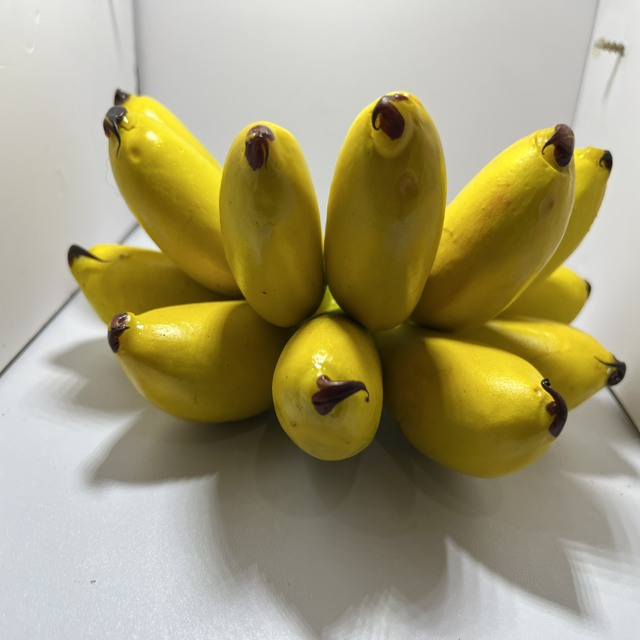Chuoi: (52, 83, 632, 489)
